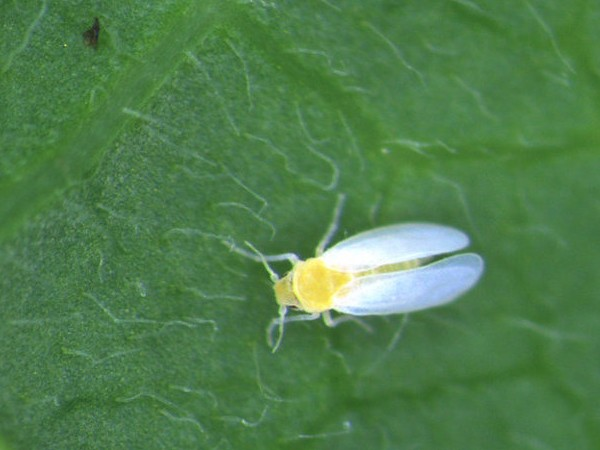Tobacco Whitefly: (214, 206, 497, 362)
